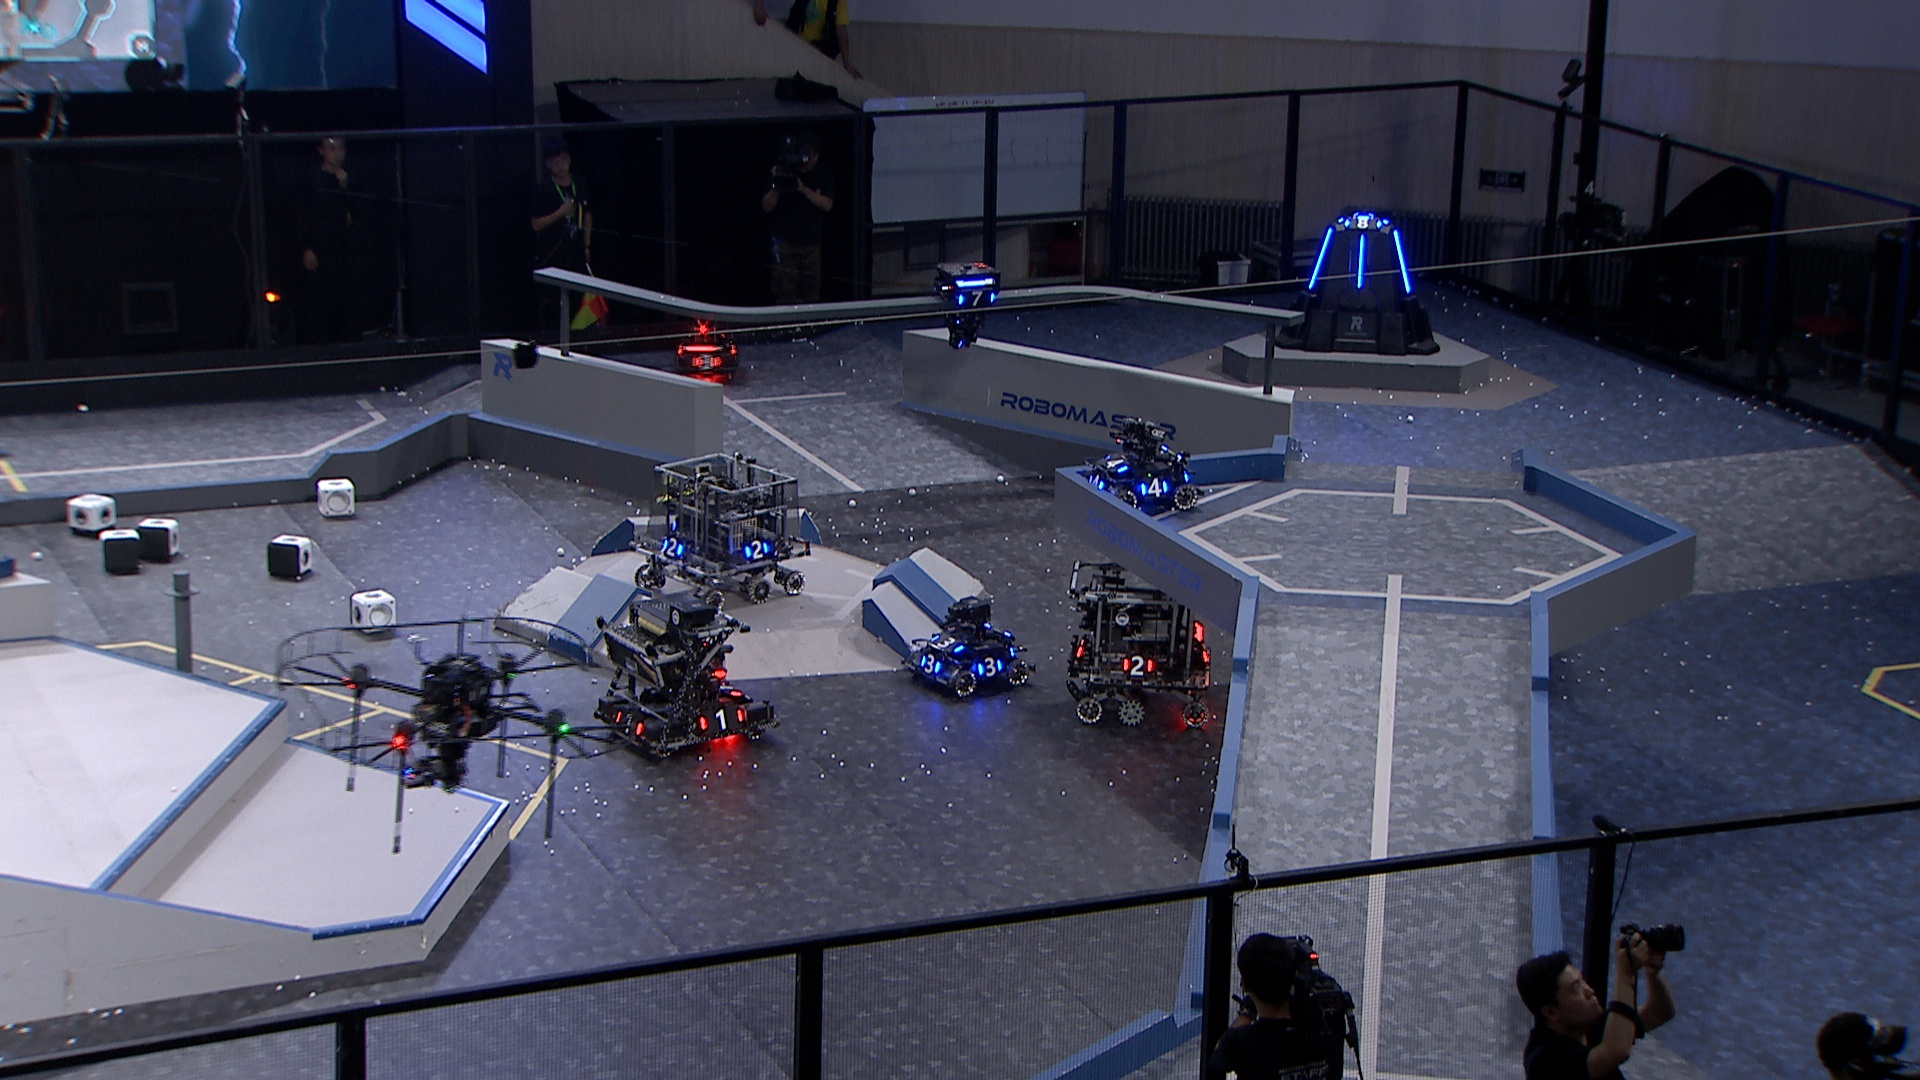armor: (1387, 225, 1419, 295), (1304, 224, 1335, 294), (694, 705, 746, 733), (613, 711, 646, 738), (1352, 233, 1367, 290), (953, 289, 998, 309), (1342, 214, 1385, 232), (930, 632, 963, 654), (1135, 476, 1168, 498), (1121, 654, 1155, 675), (977, 655, 1004, 679), (916, 651, 944, 674), (659, 534, 683, 559), (742, 541, 771, 560), (1105, 454, 1130, 476), (692, 352, 723, 371), (1195, 637, 1215, 662), (717, 680, 742, 699), (1087, 469, 1106, 491)
base: (1273, 207, 1443, 360)
car: (589, 589, 781, 765), (632, 450, 814, 613), (1064, 560, 1218, 731), (903, 589, 1039, 699), (1081, 417, 1209, 509), (673, 315, 744, 381)
watcher: (936, 258, 1004, 348)
